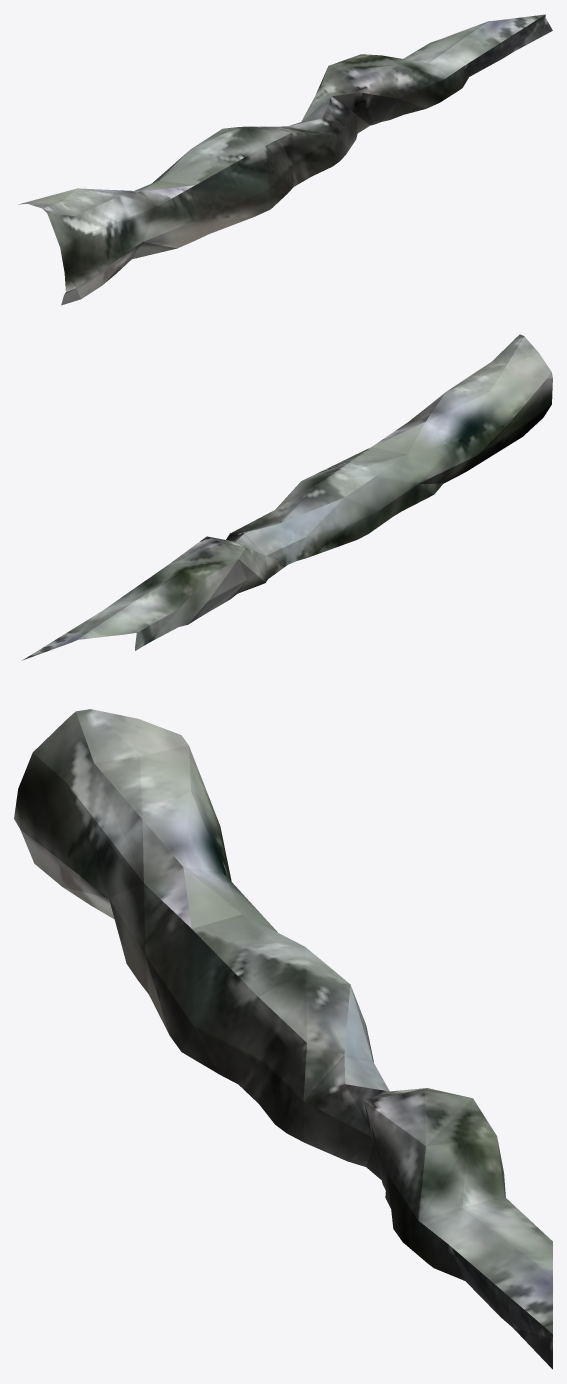
The picture shows the model from 3 angles, top to bottom: view 1: azimuth 30°, elevation 25°; view 2: azimuth 210°, elevation 25°; view 3: azimuth 270°, elevation 25°; orthographic projection. The views are drawn at different scales.
Size of the model in its own units: 0.6602 by 0.0808 by 0.2873.
Materials: 1 (1 with a texture image).
